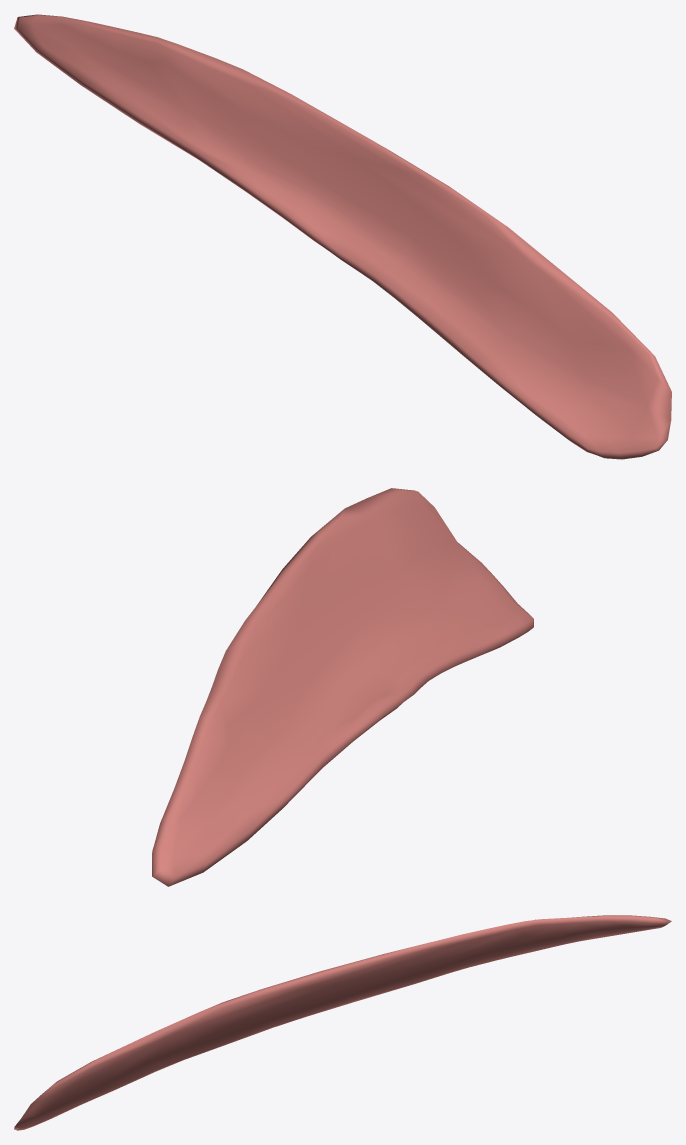
The picture shows the model from 3 angles, top to bottom: view 1: azimuth 30°, elevation 25°; view 2: azimuth 150°, elevation 25°; view 3: azimuth 270°, elevation 25°; orthographic projection. The views are drawn at different scales.
Parts seen in each view (by area): view 1: ZA_914fe078fd5e2ec5; view 2: ZA_914fe078fd5e2ec5; view 3: ZA_914fe078fd5e2ec5.
Part boxes in pixels (x1,y1,x2,y2): ZA_914fe078fd5e2ec5: [14, 14, 671, 459]; ZA_914fe078fd5e2ec5: [152, 488, 533, 886]; ZA_914fe078fd5e2ec5: [14, 915, 671, 1130].
Size of the model in its own units: 0.0102 by 0.0084 by 0.0314.
